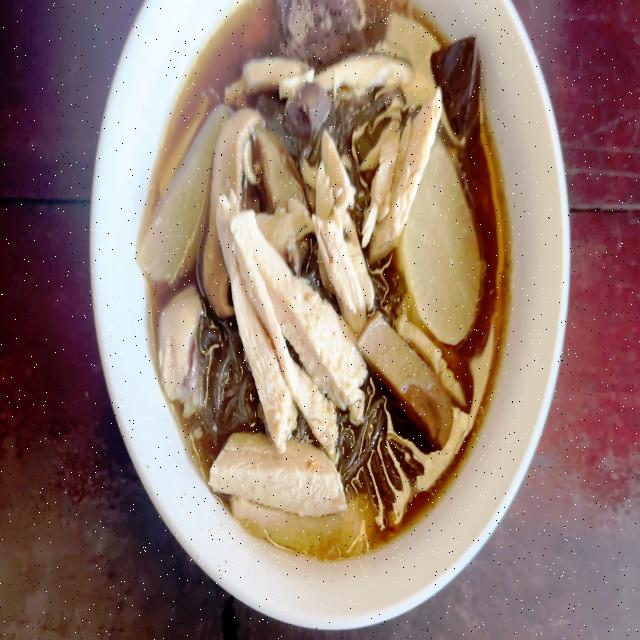boiled_chicken_blood_jelly: (278, 0, 365, 54), (438, 32, 484, 133), (284, 85, 324, 134)
chicken_shredded: (224, 214, 352, 436), (358, 92, 442, 252), (211, 434, 343, 516), (319, 135, 362, 315), (158, 286, 201, 406), (237, 54, 309, 92), (316, 55, 403, 84)
daikon_radish: (150, 100, 228, 288), (408, 148, 478, 336)
noodle: (146, 0, 498, 566)
